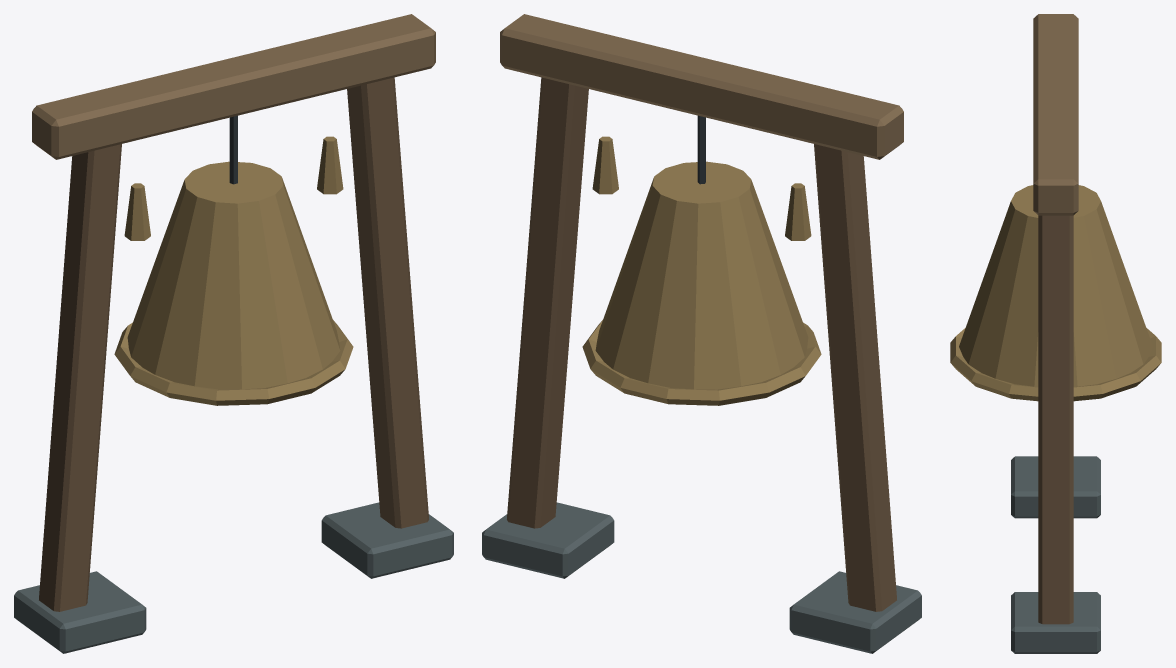
Rendered from hero_wind_bell.glb.
3 renders of one model, left to right at view 1: azimuth 30°, elevation 25°; view 2: azimuth 150°, elevation 25°; view 3: azimuth 270°, elevation 25°, orthographic. The views are drawn at different scales.
Visible parts, largest first — view 1: HeroWindBell; view 2: HeroWindBell; view 3: HeroWindBell.
Part boxes in pixels (x1=…): HeroWindBell: x1=14, y1=14, x2=453, y2=653; HeroWindBell: x1=482, y1=14, x2=921, y2=653; HeroWindBell: x1=950, y1=14, x2=1161, y2=653.
Bounding box in the file's own units: 4.1 × 5.2 × 2.11.
